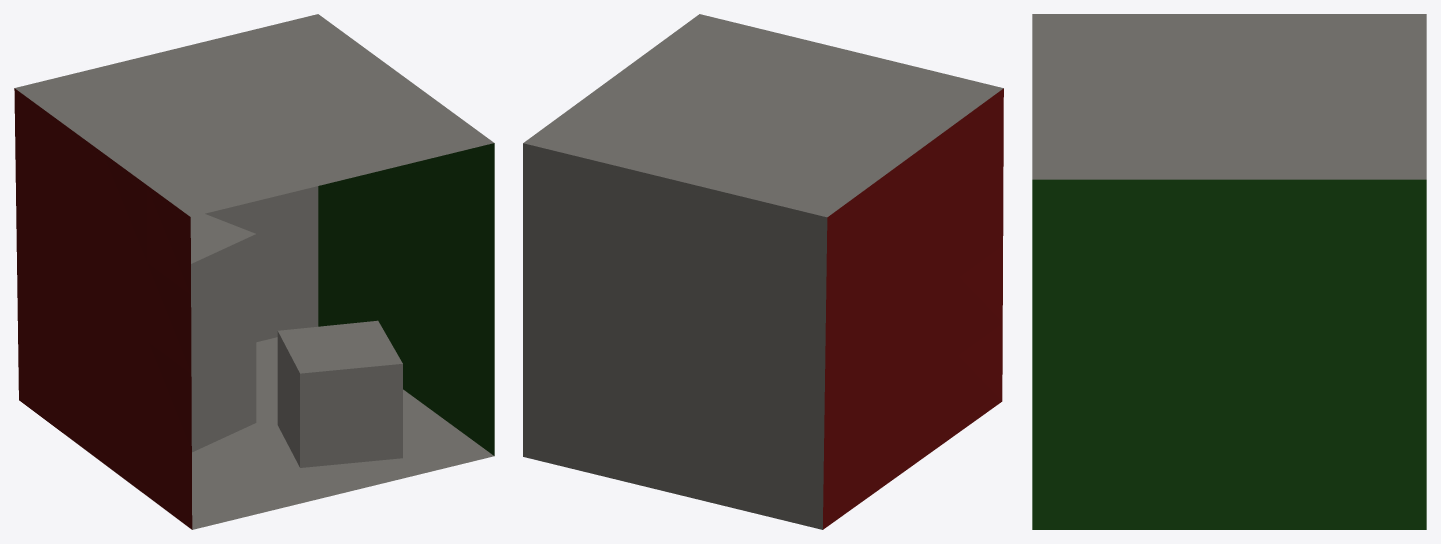
The model's file is cornellboxSubdivide.obj.
The picture shows the model from 3 angles, left to right: view 1: azimuth 30°, elevation 25°; view 2: azimuth 150°, elevation 25°; view 3: azimuth 270°, elevation 25°; orthographic projection. The views are drawn at different scales.
Parts seen in each view (by area): view 1: leftWall, ceiling, rightWall, floor, shortBox, backWall; view 2: backWall, leftWall, ceiling; view 3: rightWall, ceiling.
Boxes of the visible parts, box(x1,y1,x2,y2) form: leftWall: box(14, 88, 402, 529); ceiling: box(15, 14, 493, 216); rightWall: box(318, 143, 494, 455); floor: box(192, 337, 493, 529); shortBox: box(190, 213, 256, 452); backWall: box(205, 186, 318, 342); backWall: box(523, 143, 827, 529); leftWall: box(823, 88, 1003, 529); ceiling: box(523, 14, 1003, 217); rightWall: box(1032, 179, 1426, 529); ceiling: box(1032, 14, 1426, 179).
Size of the model in its own units: 2.02 by 1.99 by 2.03.
